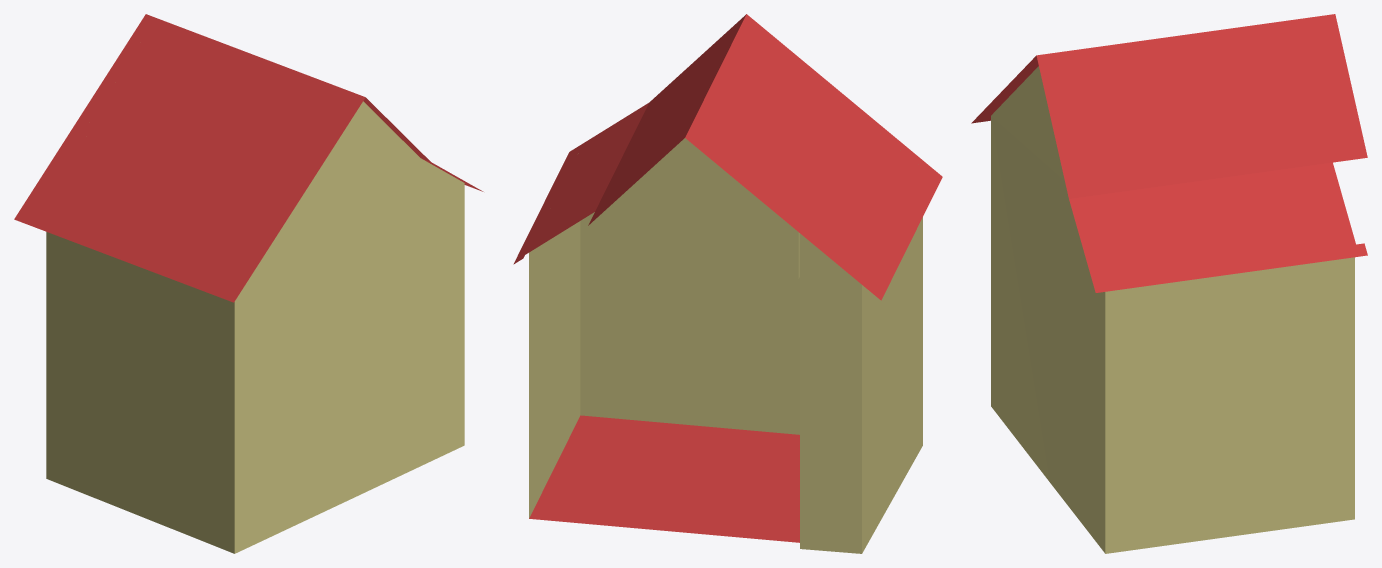
3 renders of one model, left to right at view 1: azimuth 30°, elevation 25°; view 2: azimuth 150°, elevation 25°; view 3: azimuth 270°, elevation 25°, orthographic. The views are drawn at different scales.
Size of the model in its own units: 15.72 by 13.04 by 15.59.
